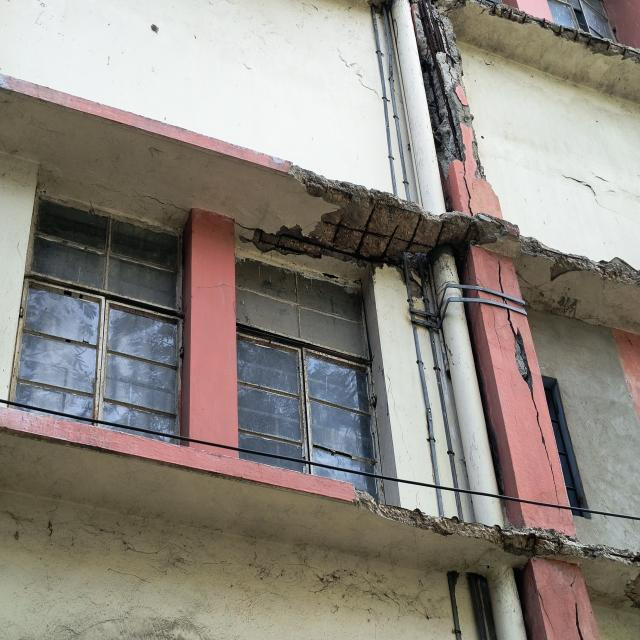crack: (497, 256, 560, 517), (569, 573, 587, 640)
spalling: (234, 166, 640, 286), (353, 483, 640, 570), (411, 0, 502, 219), (469, 0, 640, 64)
